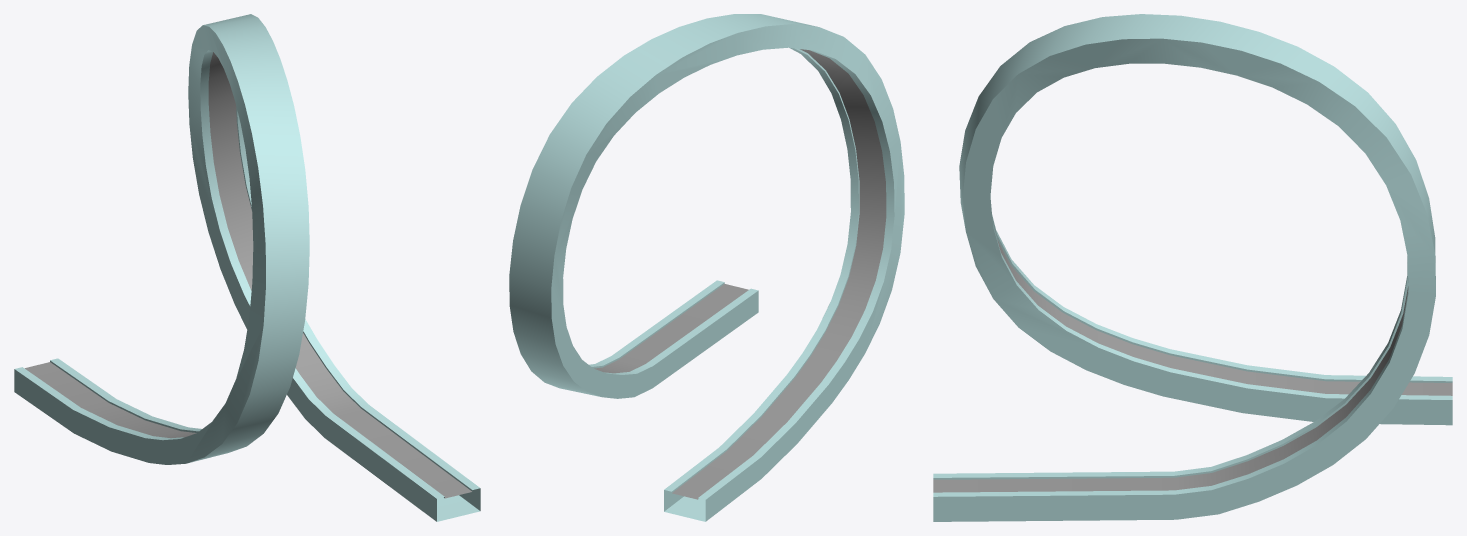
Rendered from loop.fbx.
The picture shows the model from 3 angles, left to right: view 1: azimuth 30°, elevation 25°; view 2: azimuth 150°, elevation 25°; view 3: azimuth 270°, elevation 25°; orthographic projection. The views are drawn at different scales.
Parts seen in each view (by area): view 1: loop; view 2: loop; view 3: loop.
Boxes of the visible parts, left/top/right/bottom form: loop: left=14, top=14, right=480, bottom=521; loop: left=509, top=14, right=904, bottom=521; loop: left=933, top=14, right=1452, bottom=521.
Bounding box in the file's own units: 1056 × 1781 × 1925.
